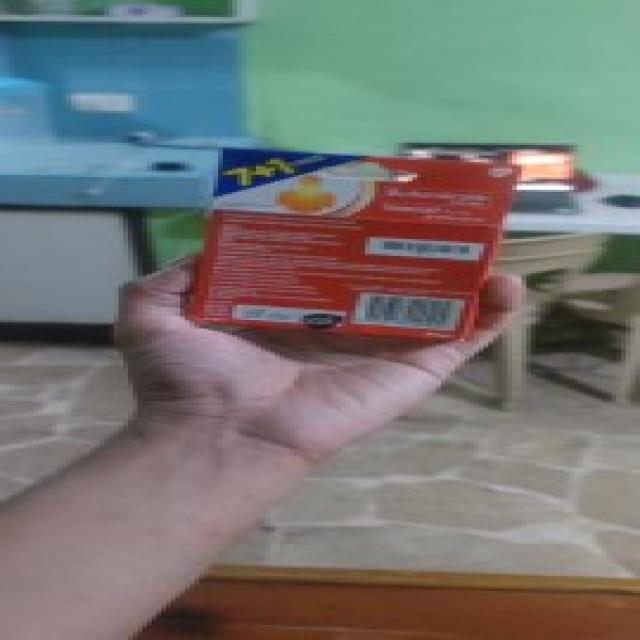Cacat: (180, 148, 519, 338)
